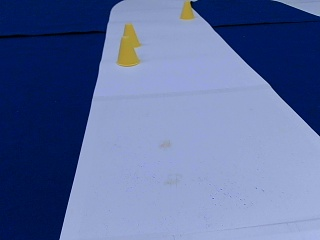cone: (115, 33, 140, 66), (122, 23, 139, 46), (180, 1, 193, 19)
